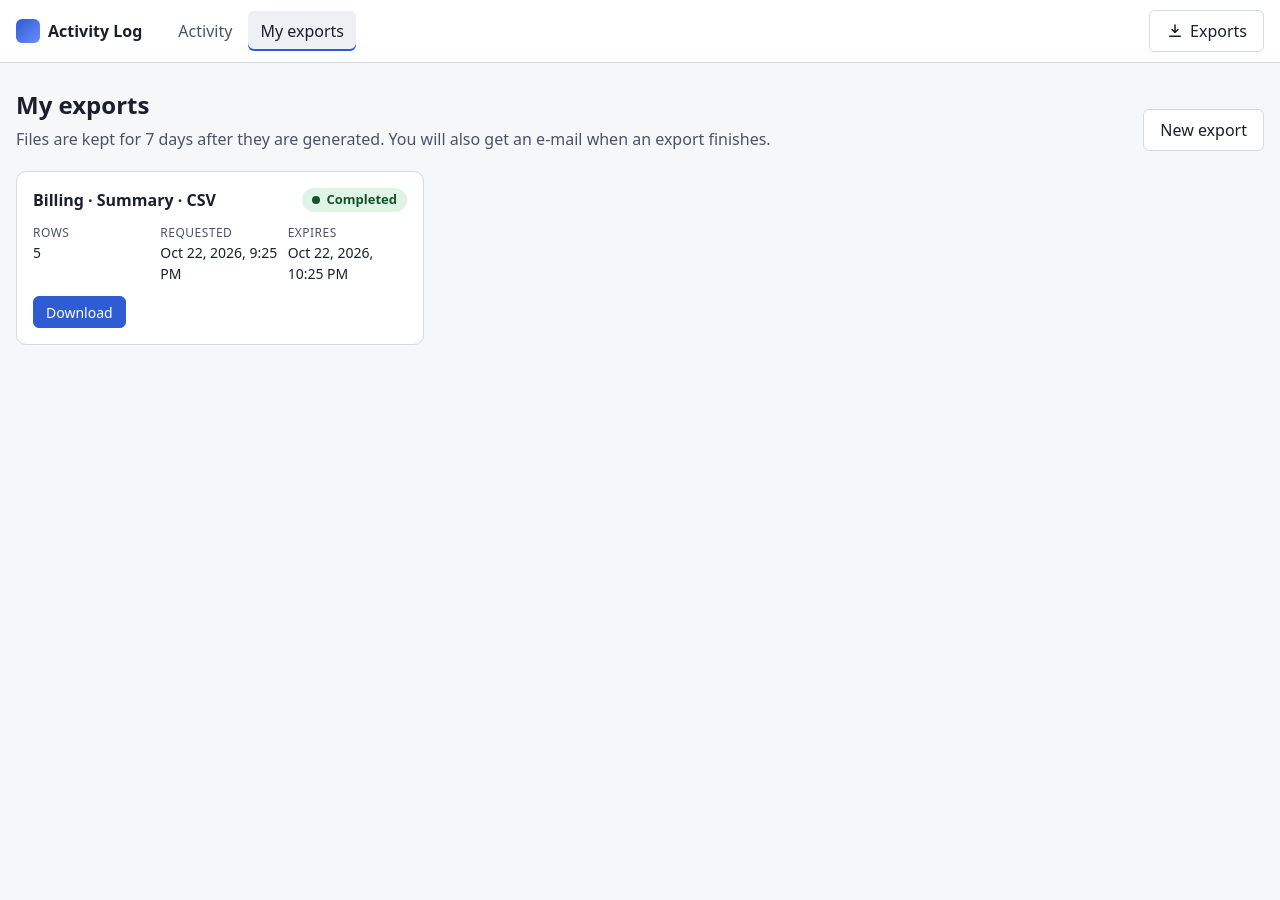
Test case: Download › explains a 410 Gone and stops offering the download
Click the button "Download". click: (79, 312)
box: [33,296,126,328]
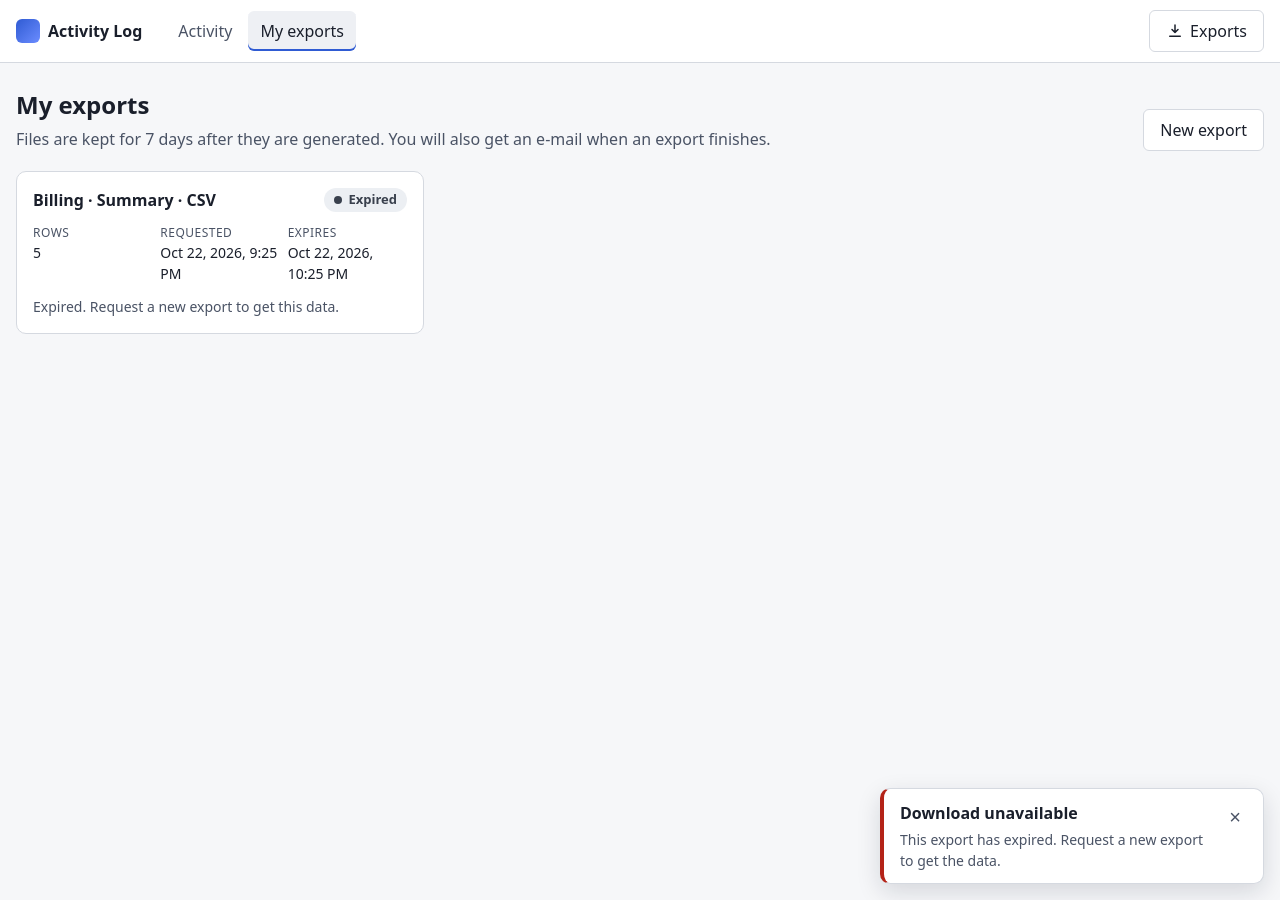
Now the text "Download unavailable" is shown, box [900,802,1078,824]
Now the text "This export has expired" is shown, box [900,830,1203,870]
Now the text "Expired" is shown, box [324,188,407,212]
